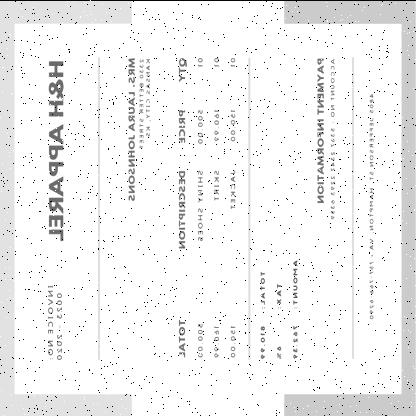Paragraph: (256, 252, 302, 364), (126, 52, 154, 206), (314, 52, 338, 222), (366, 88, 376, 322), (45, 278, 64, 364)
Table: (172, 48, 246, 364)
